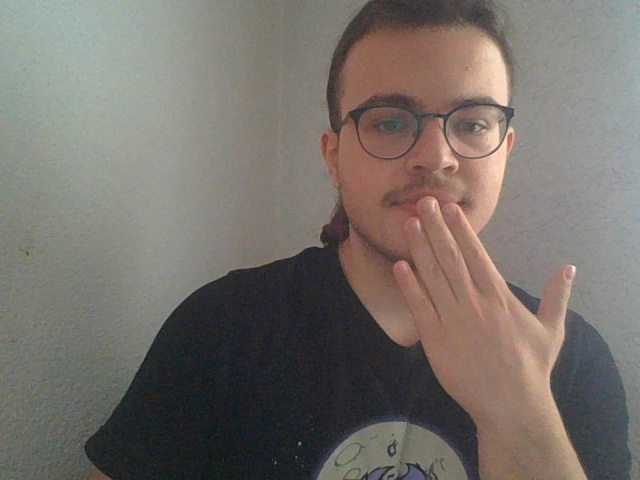ThankYou: (391, 195, 579, 480)
